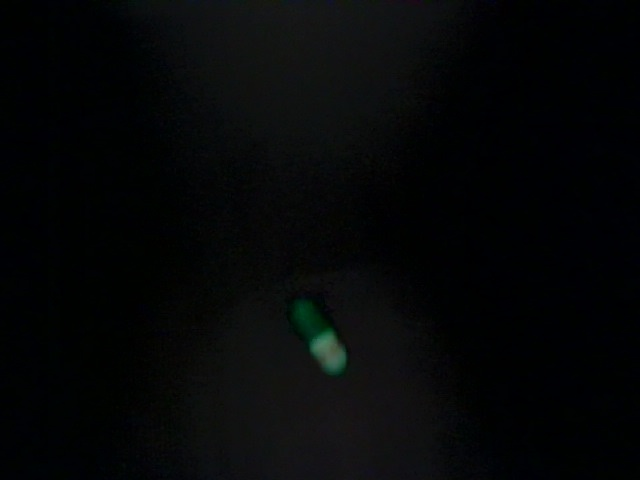YHLJ: (79, 161, 393, 228)
